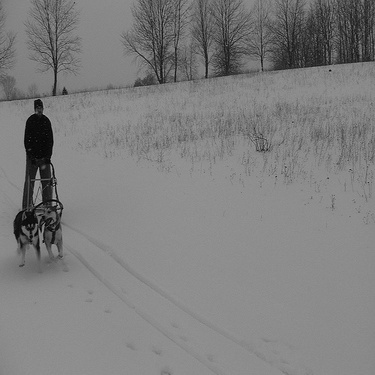dog: (27, 200, 80, 268), (8, 202, 43, 275)
